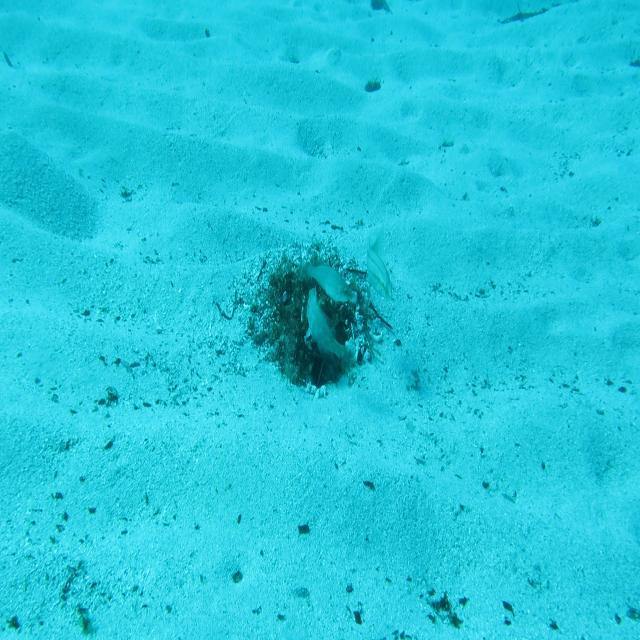SHAK: (300, 281, 361, 376)
female: (358, 228, 400, 306)
nest: (248, 238, 390, 396)
other_fish: (295, 251, 360, 306)
